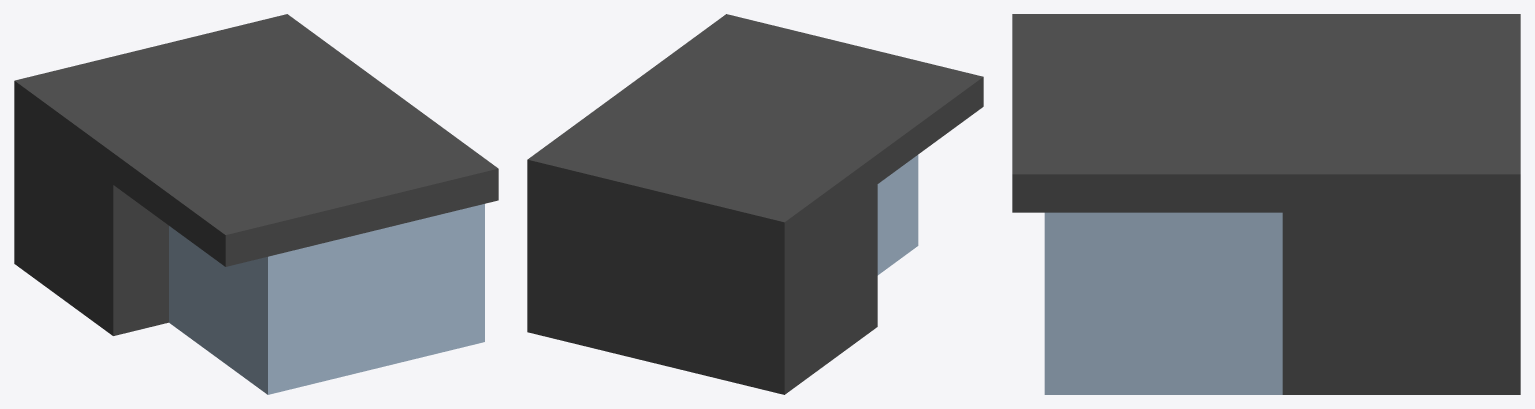
The model's file is CarBuilding.fbx.
3 views of the same model, side by side, from view 1: azimuth 30°, elevation 25°; view 2: azimuth 150°, elevation 25°; view 3: azimuth 270°, elevation 25° (orthographic). The views are drawn at different scales.
Visible parts, largest first — view 1: Cube; view 2: Cube; view 3: Cube.
Part boxes in pixels (box(x1,y1,x2,y2)): Cube: box(14, 14, 498, 394); Cube: box(527, 14, 983, 394); Cube: box(1012, 14, 1520, 394).
Size of the model in its own units: 2077 by 1332 by 2783.
